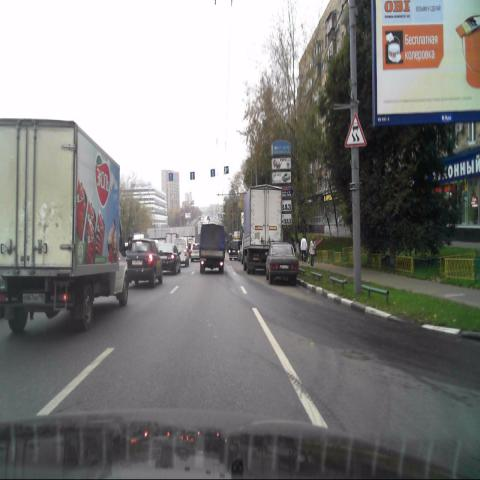1_15: (342, 112, 368, 147)
